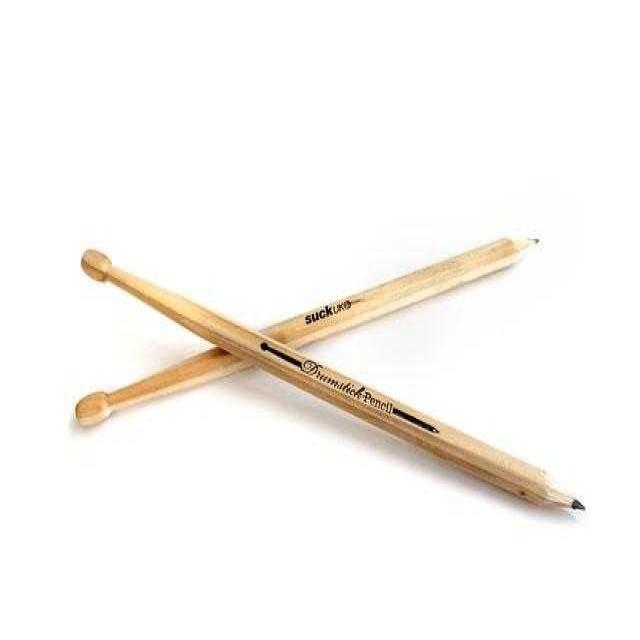pencil: (70, 233, 600, 530), (65, 221, 549, 439)
